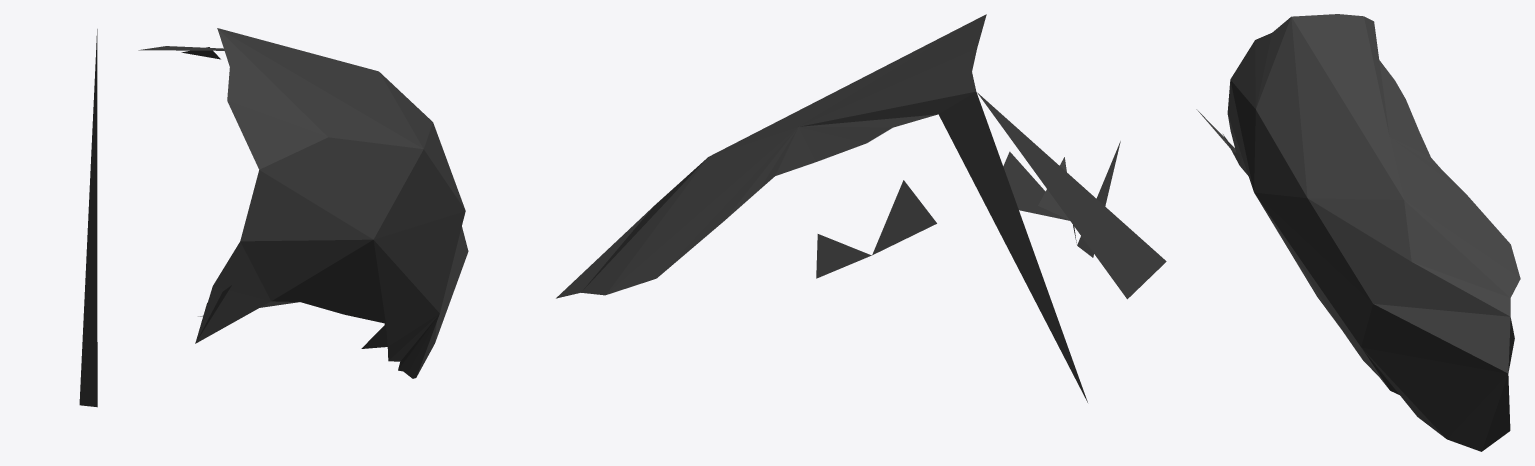
Rendered from A_coeliac_A_coeliac.glb.
The picture shows the model from 3 angles, left to right: view 1: azimuth 30°, elevation 25°; view 2: azimuth 150°, elevation 25°; view 3: azimuth 270°, elevation 25°; orthographic projection. The views are drawn at different scales.
Visible parts, largest first — view 1: A_coeliac_A_coeliac; view 2: A_coeliac_A_coeliac; view 3: A_coeliac_A_coeliac.
Boxes of the visible parts, x1,y1,x2,y2 form: A_coeliac_A_coeliac: (79, 28, 468, 407); A_coeliac_A_coeliac: (556, 14, 1166, 402); A_coeliac_A_coeliac: (1196, 14, 1520, 451).
Size of the model in its own units: 0.00652 by 0.00542 by 0.00493.
Materials: 1 (1 with a texture image).
